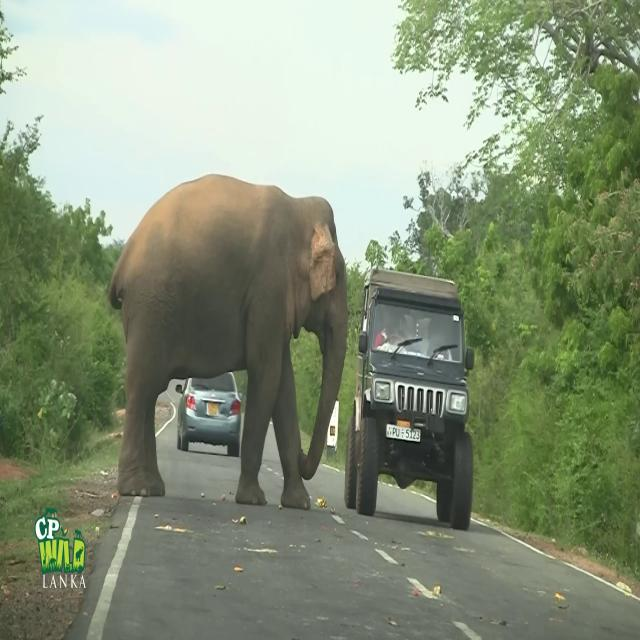Elephant: (107, 172, 348, 509)
person: (374, 306, 405, 349)
